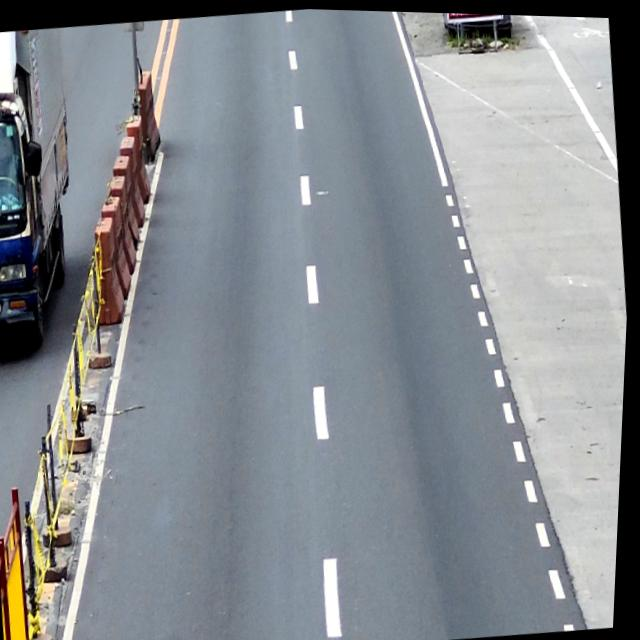Truck: (0, 25, 96, 354)
